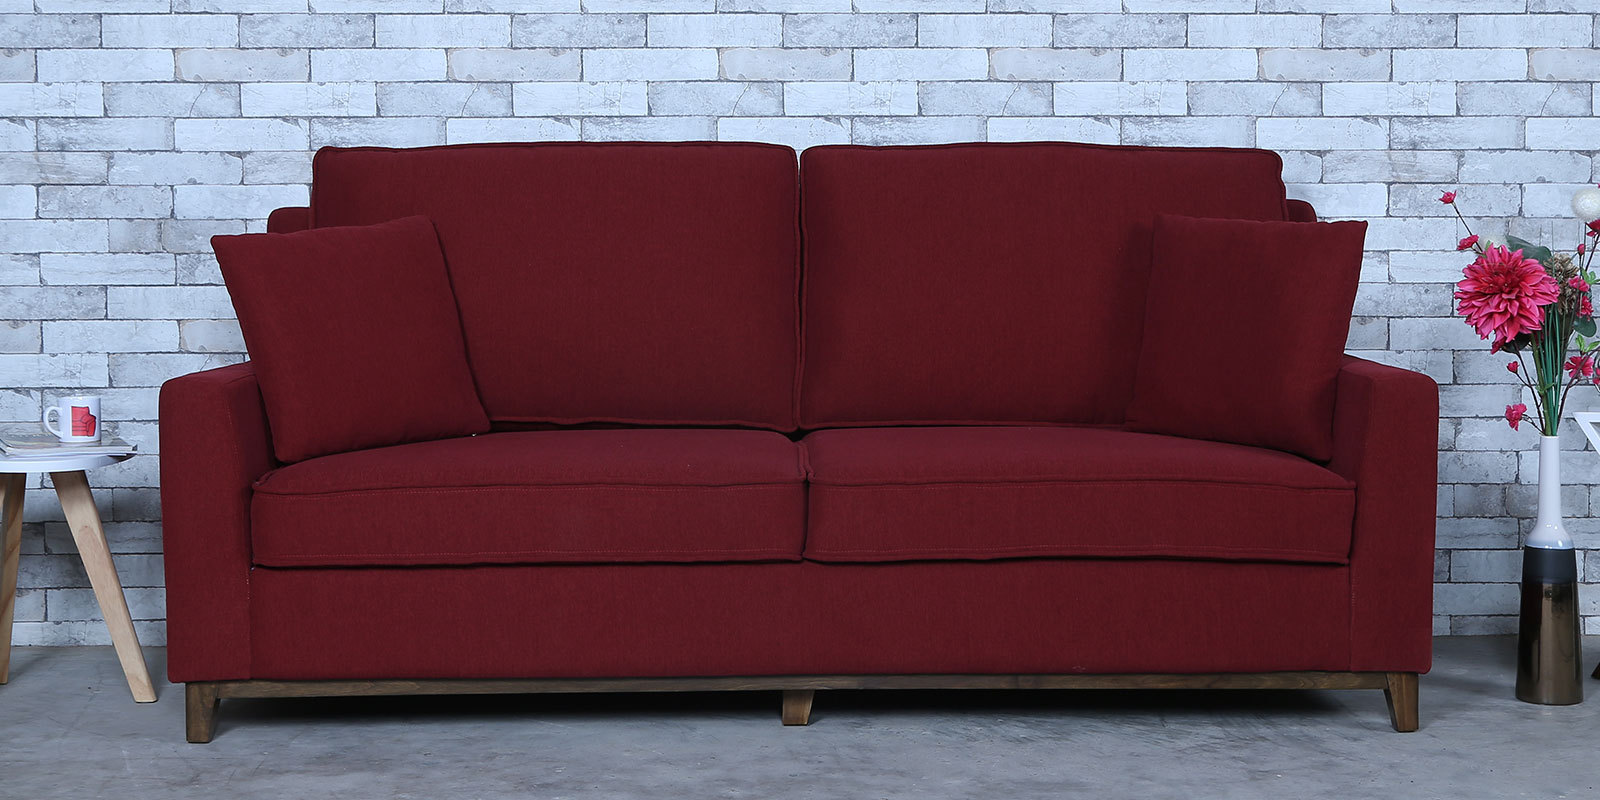Diego Three Seater Sofa in Garnet Red Colour by CasaCraft: (146, 118, 1443, 752)
